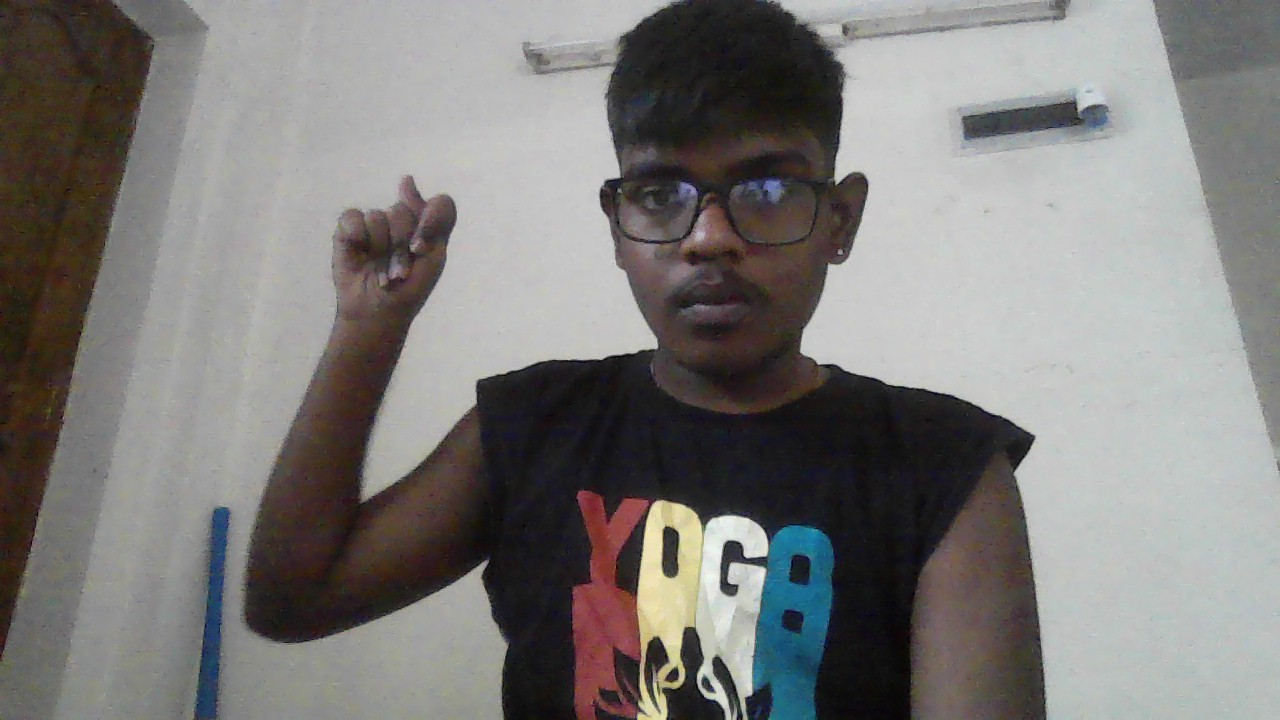T: (331, 175, 457, 322)
